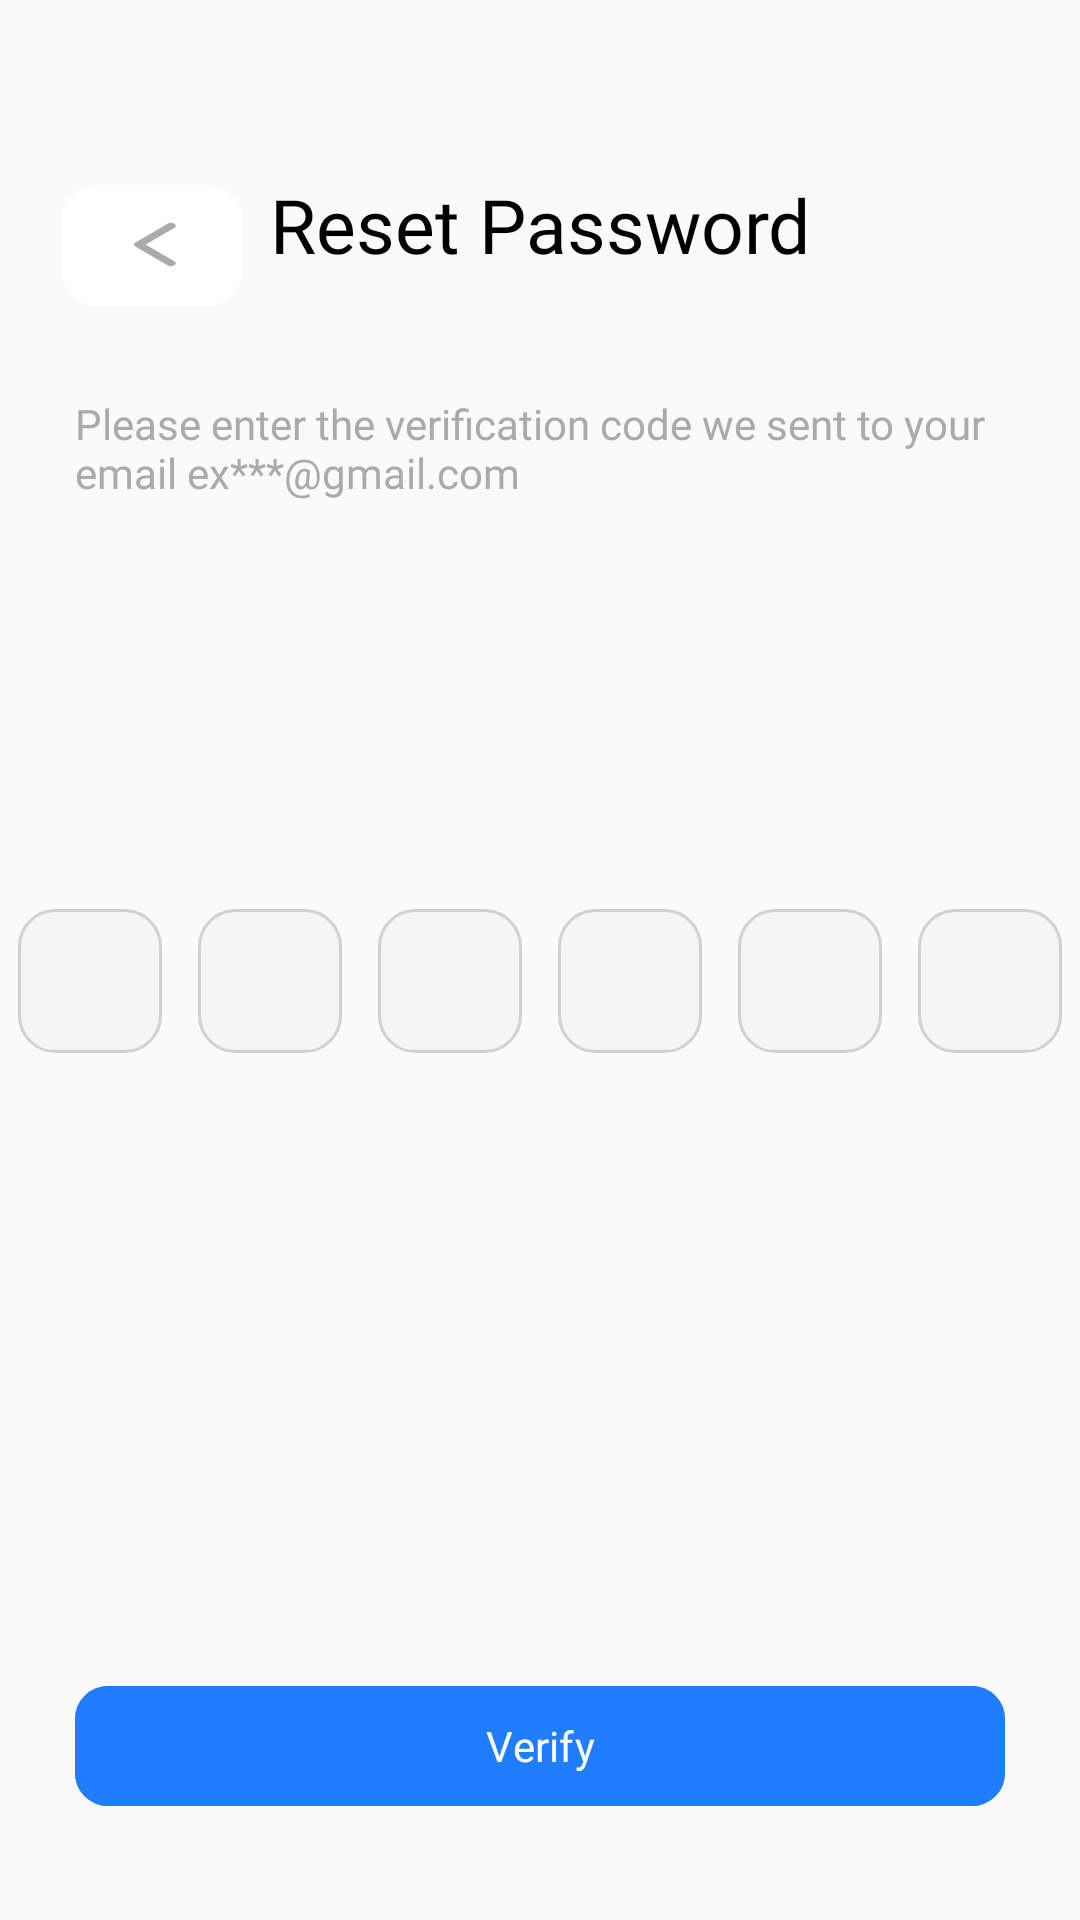

Icons on this 1080x1920 Android screen, each with the point to tap as [x,y]:
back: [155,244]
